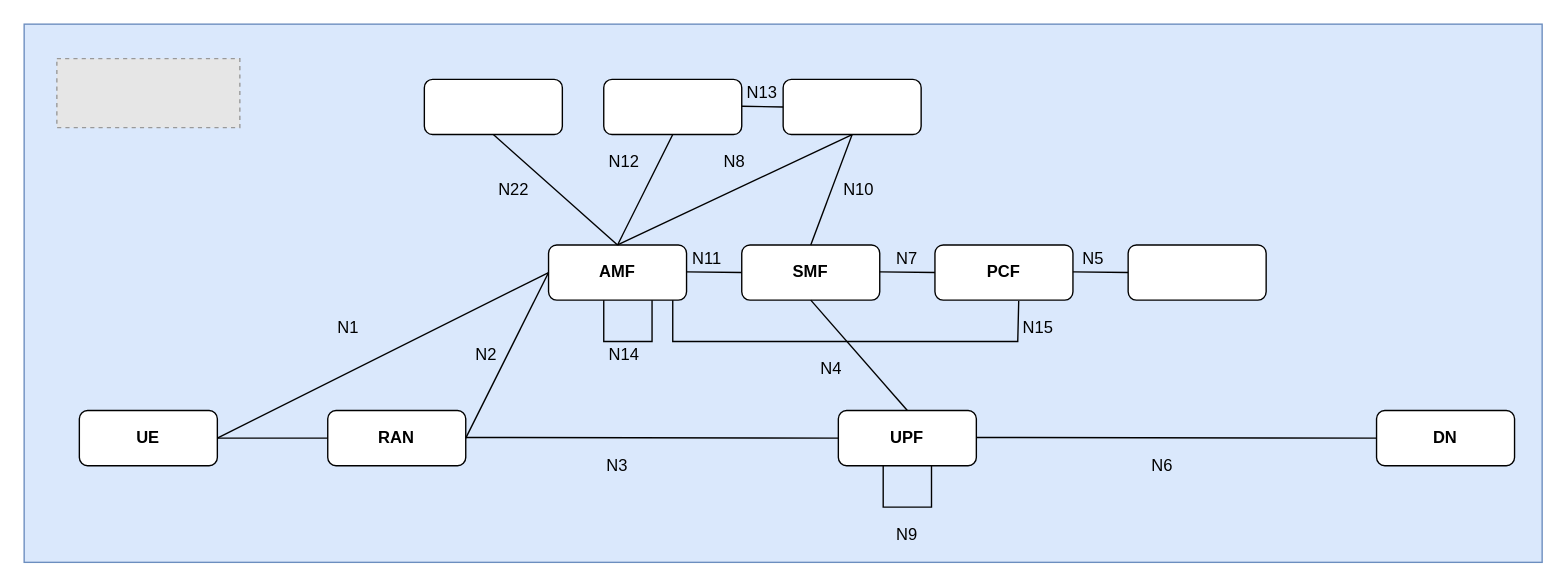
The diagram is 1566 pixels wide and 587 high, and some of its shapes have lost their labels. Grey dashed boxes stand in for pictures. Here are the shapes that lost their labels. From the top down, the centre of each, then its label:
(492,106): NSSF
(672,106): AUSF
(851,106): UDM
(1196,272): AF
